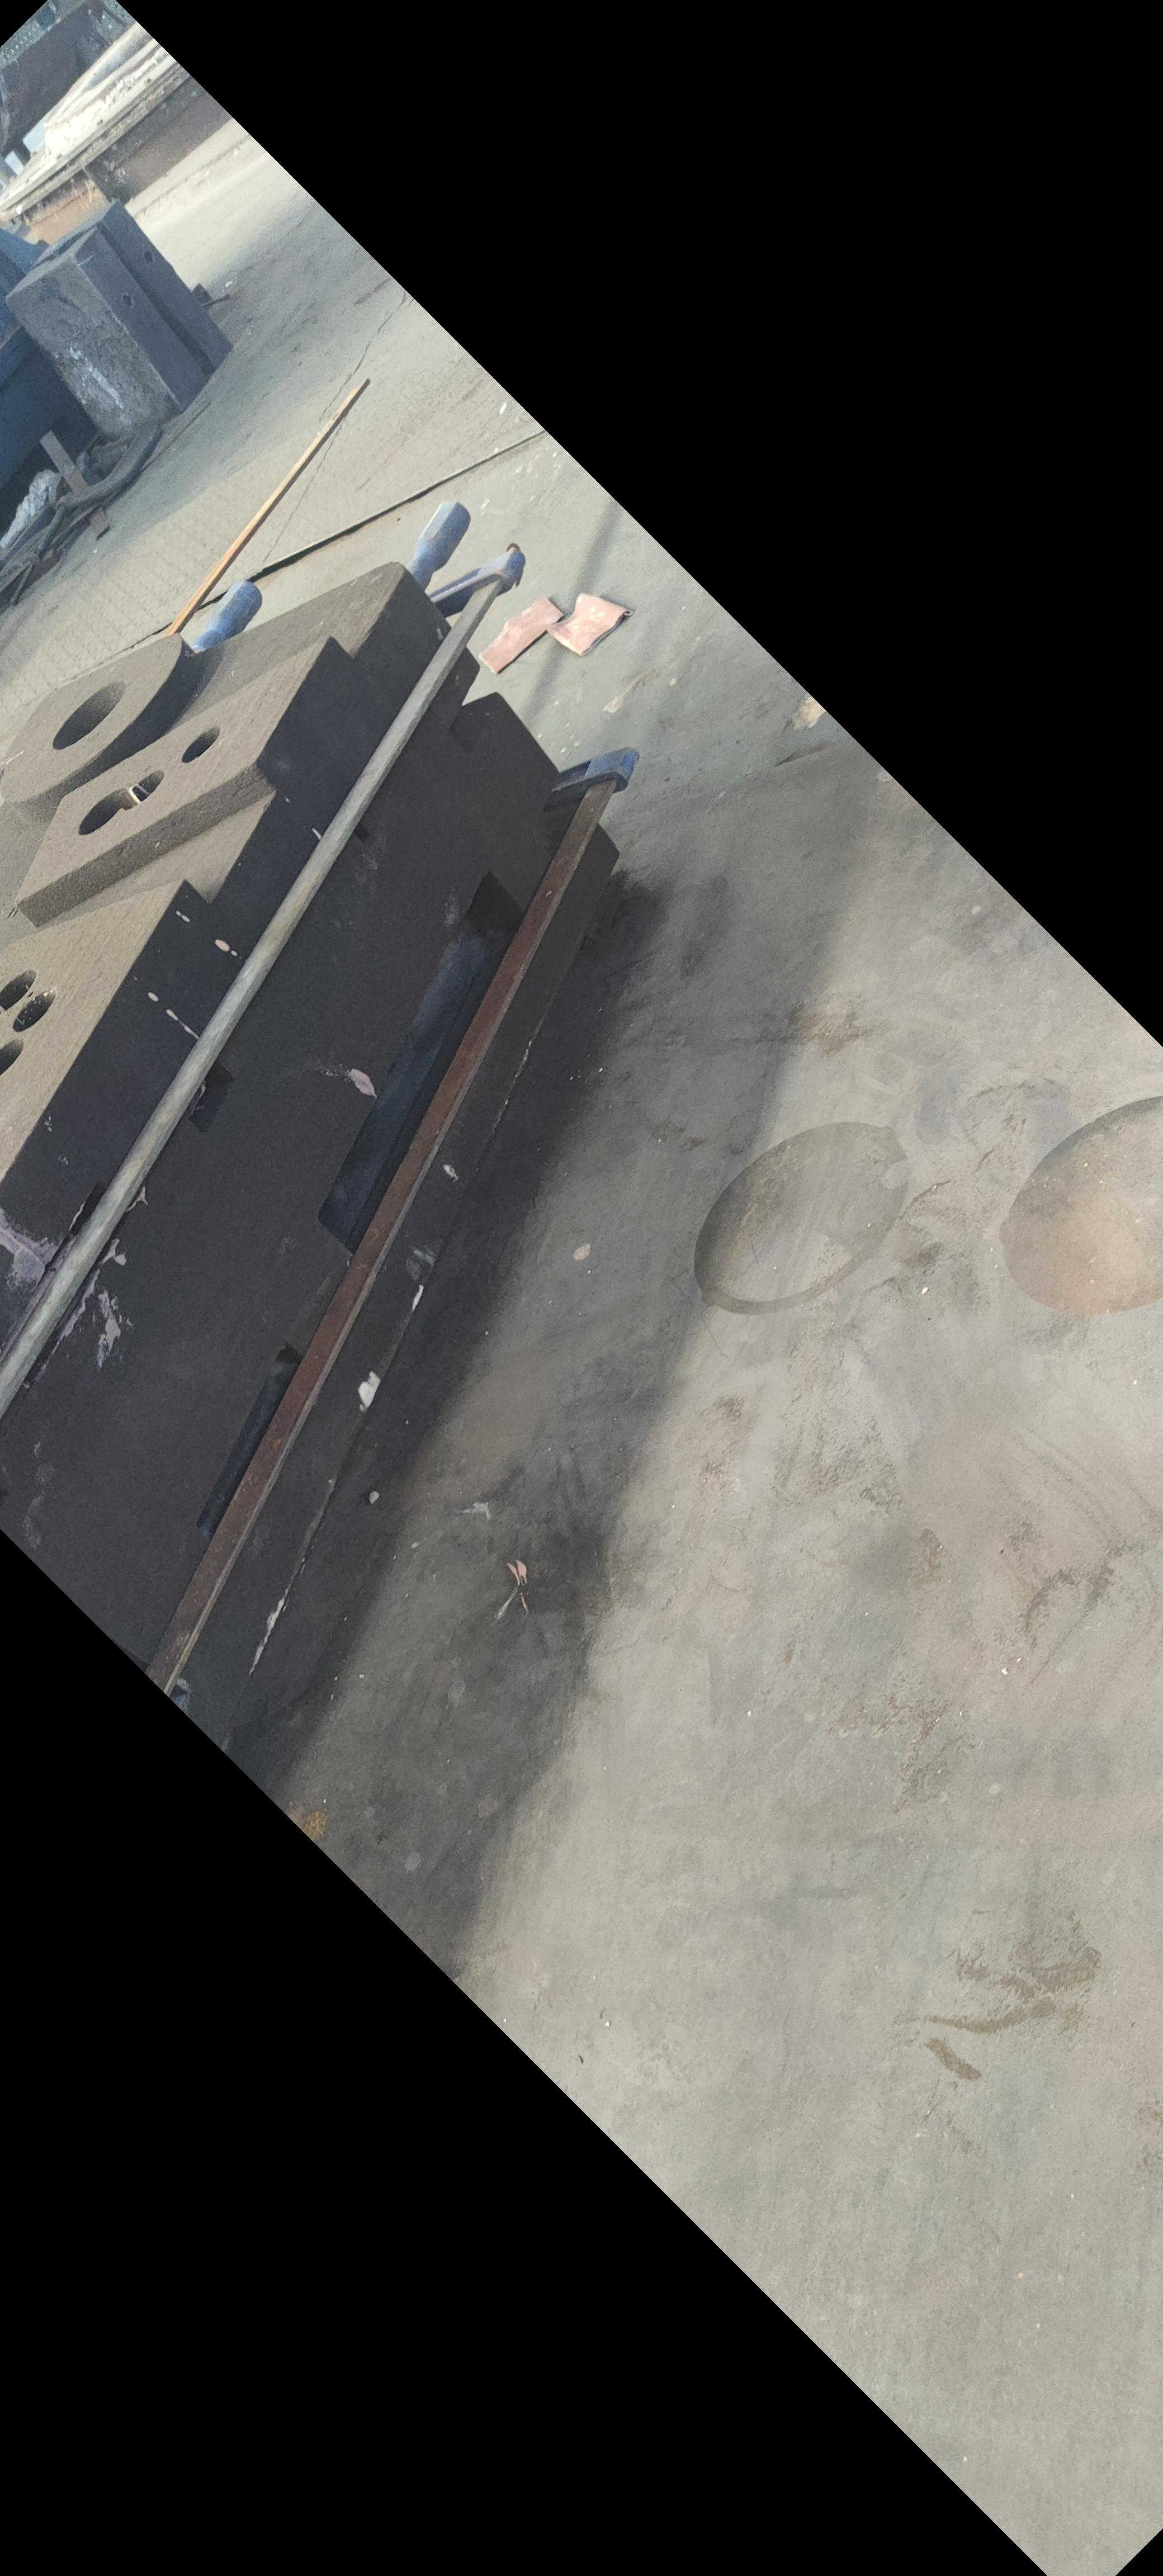pouring hole: (51, 680, 128, 751)
